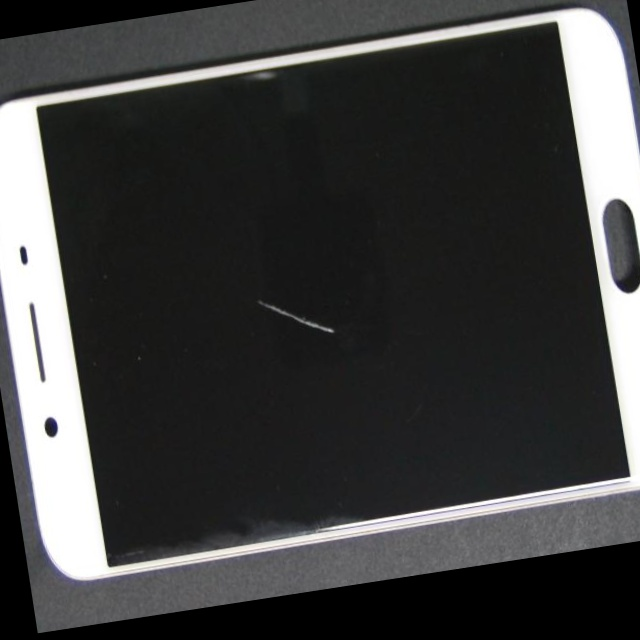scratch: (84, 86, 412, 467)
